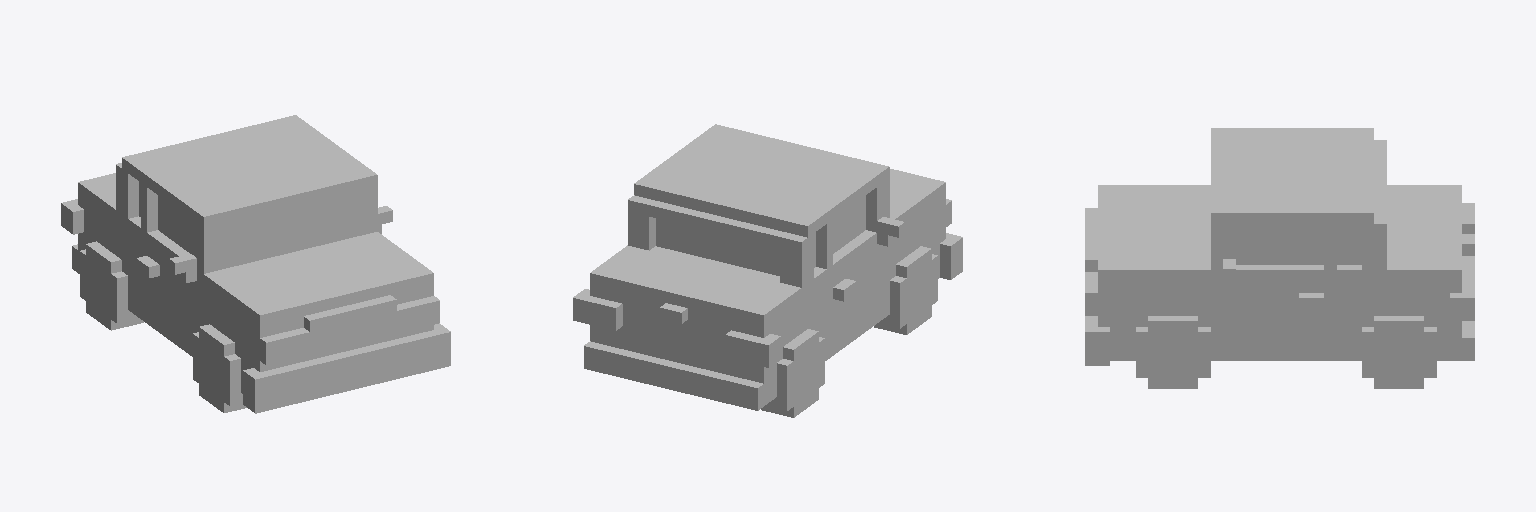
Rendered from blueCar.obj.
3 renders of one model, left to right at view 1: azimuth 30°, elevation 25°; view 2: azimuth 150°, elevation 25°; view 3: azimuth 270°, elevation 25°, orthographic.
Parts seen in each view (by area): view 1: object 1; view 2: object 1; view 3: object 1.
Boxes of the visible parts, <box> form: object 1: <box>61,115,450,413</box>; object 1: <box>573,124,962,417</box>; object 1: <box>1085,128,1474,388</box>.
Size of the model in its own units: 2 by 1.5 by 3.1.